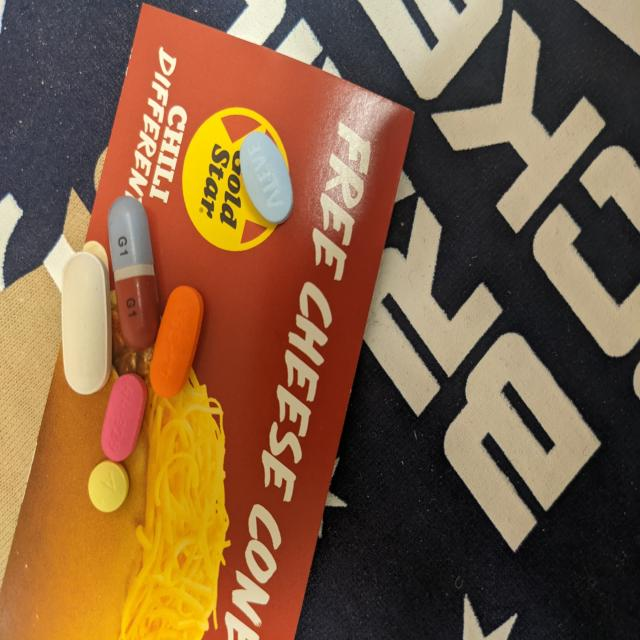non-organic waste: (106, 194, 161, 352), (60, 250, 114, 397), (148, 284, 206, 401), (239, 130, 295, 226), (100, 372, 148, 464), (87, 457, 130, 514)
